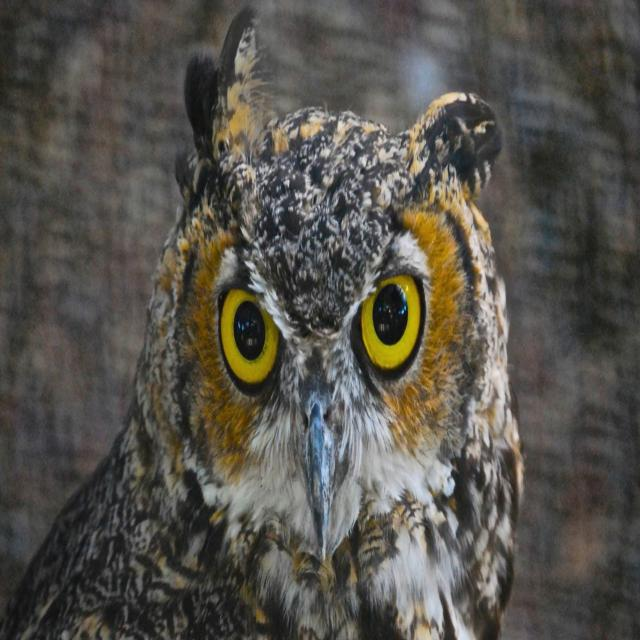owl: (1, 6, 523, 639)
